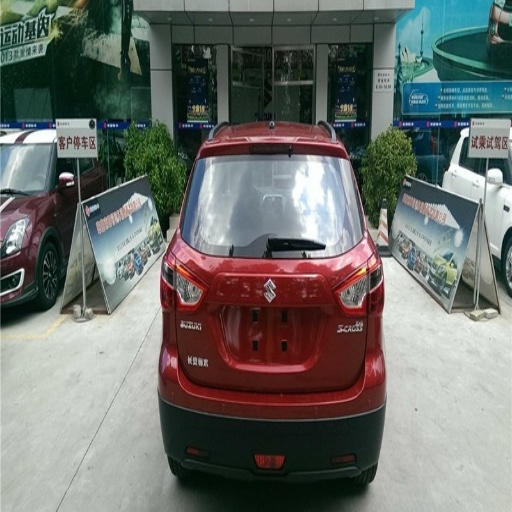back_bumper: (159, 339, 387, 480)
tailgate: (250, 339, 344, 388)
trunk: (177, 255, 365, 390)
